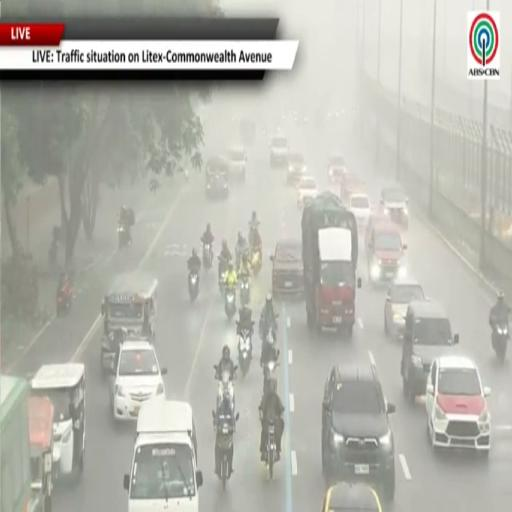bus: (0, 376, 31, 511)
car: (322, 361, 395, 501), (426, 356, 491, 455), (401, 300, 459, 403), (110, 339, 167, 420), (366, 221, 407, 284), (384, 282, 426, 340), (271, 239, 303, 296), (322, 483, 382, 511), (380, 186, 408, 229), (206, 156, 229, 199), (348, 192, 371, 230), (340, 172, 364, 206), (365, 213, 388, 247), (228, 146, 247, 181), (297, 176, 318, 207), (270, 135, 289, 168), (287, 153, 306, 185), (328, 154, 347, 183)
jeepney: (31, 363, 85, 482), (101, 272, 157, 374), (29, 396, 54, 511)
motorcycle: (213, 411, 233, 490), (214, 365, 238, 413), (262, 350, 279, 395), (264, 422, 276, 479), (492, 323, 509, 362), (265, 422, 276, 479), (239, 329, 252, 376), (261, 314, 278, 345), (218, 256, 228, 295), (57, 291, 72, 316), (225, 287, 236, 319), (117, 224, 131, 249), (188, 271, 199, 301), (240, 274, 250, 306), (251, 246, 261, 276), (48, 238, 58, 267), (236, 247, 248, 268), (203, 244, 212, 269)
truck: (301, 191, 361, 337)
